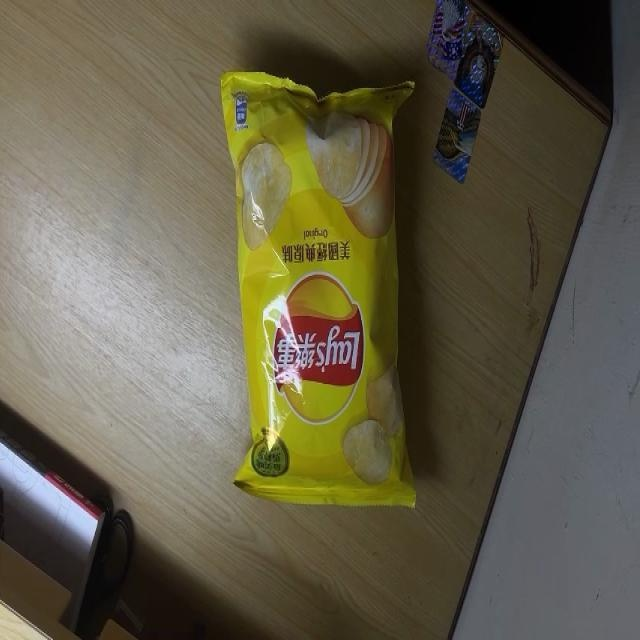Lay-s-original: (218, 73, 419, 512)
